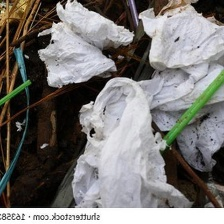tissue: (64, 71, 198, 207), (132, 55, 223, 175), (32, 0, 139, 92), (134, 0, 223, 73)
